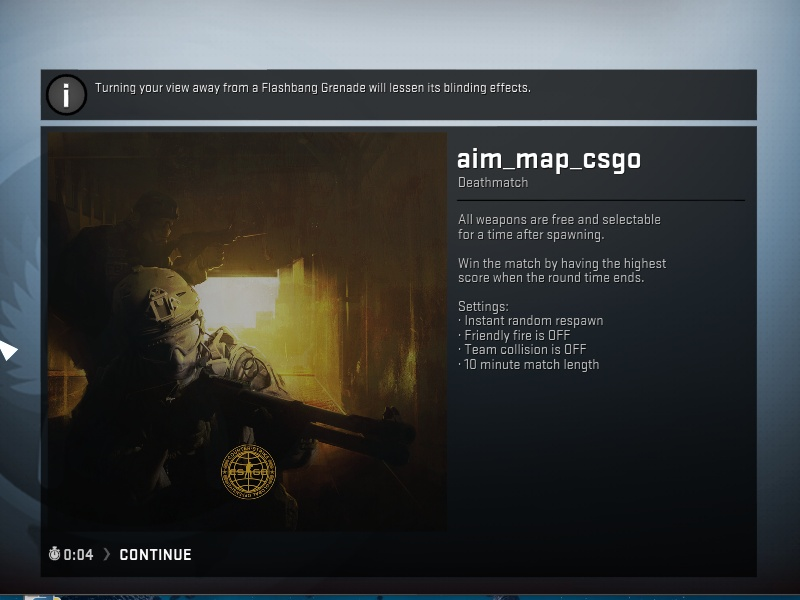c 0.46: (53, 87, 264, 600)
ch 0.49: (116, 179, 177, 263)
